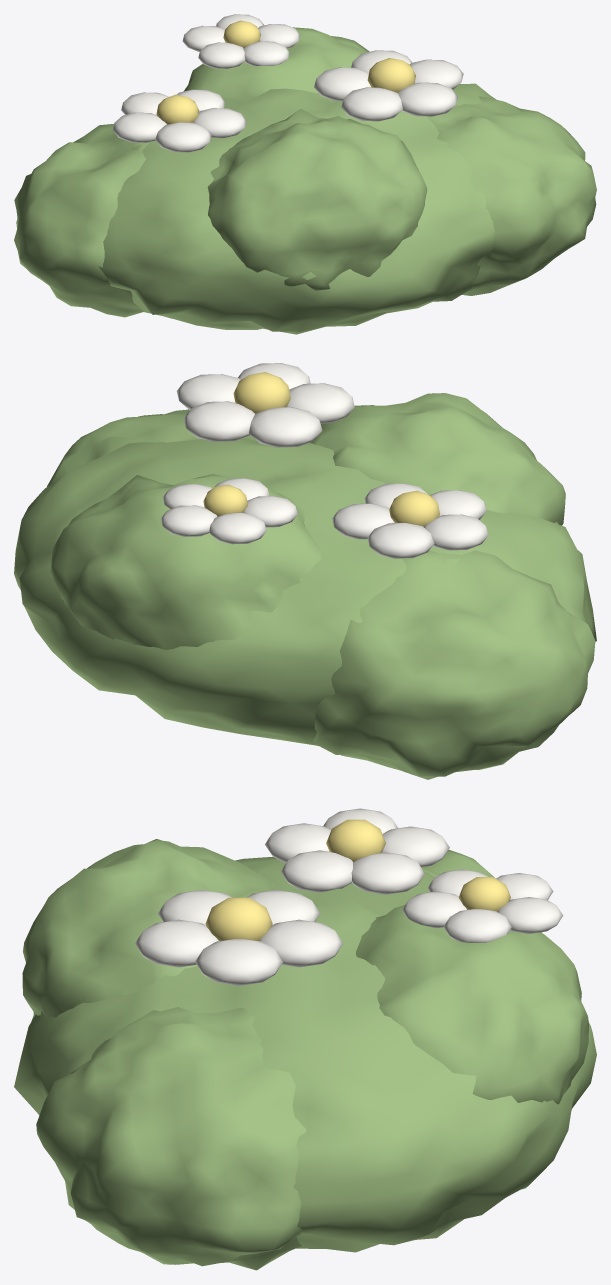
File: creature.healingmoss.glb
3 renders of one model, top to bottom at view 1: azimuth 30°, elevation 25°; view 2: azimuth 150°, elevation 25°; view 3: azimuth 270°, elevation 25°, orthographic. The views are drawn at different scales.
Parts seen in each view (by area): view 1: Moss, Bloom, Pollen; view 2: Moss, Bloom, Pollen; view 3: Moss, Bloom, Pollen.
Part boxes in pixels (box(x1,y1,x2,y2)): Moss: box(14, 27, 596, 334); Bloom: box(112, 14, 463, 152); Pollen: box(156, 20, 415, 124); Moss: box(14, 393, 596, 779); Bloom: box(160, 363, 488, 558); Pollen: box(203, 372, 439, 526); Moss: box(14, 839, 596, 1270); Bloom: box(135, 808, 563, 985); Pollen: box(205, 819, 510, 940).
Size of the model in its own units: 0.6683 by 0.3106 by 0.4982.
